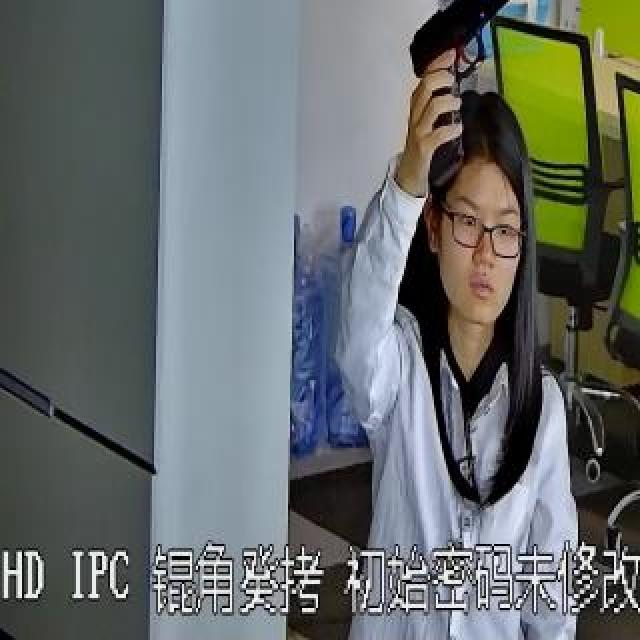Guns: (400, 0, 530, 110)
